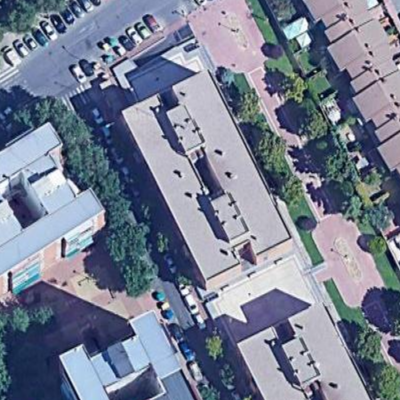tree: (88, 175, 137, 227), (3, 302, 59, 338), (49, 96, 90, 145), (102, 225, 158, 258), (251, 133, 294, 174), (66, 144, 109, 183), (116, 256, 159, 294), (363, 361, 400, 400), (350, 323, 385, 364), (233, 85, 267, 127), (326, 151, 361, 189), (298, 107, 332, 144), (270, 172, 306, 206), (201, 325, 234, 362), (363, 196, 395, 233), (282, 72, 313, 106), (364, 232, 386, 258)
